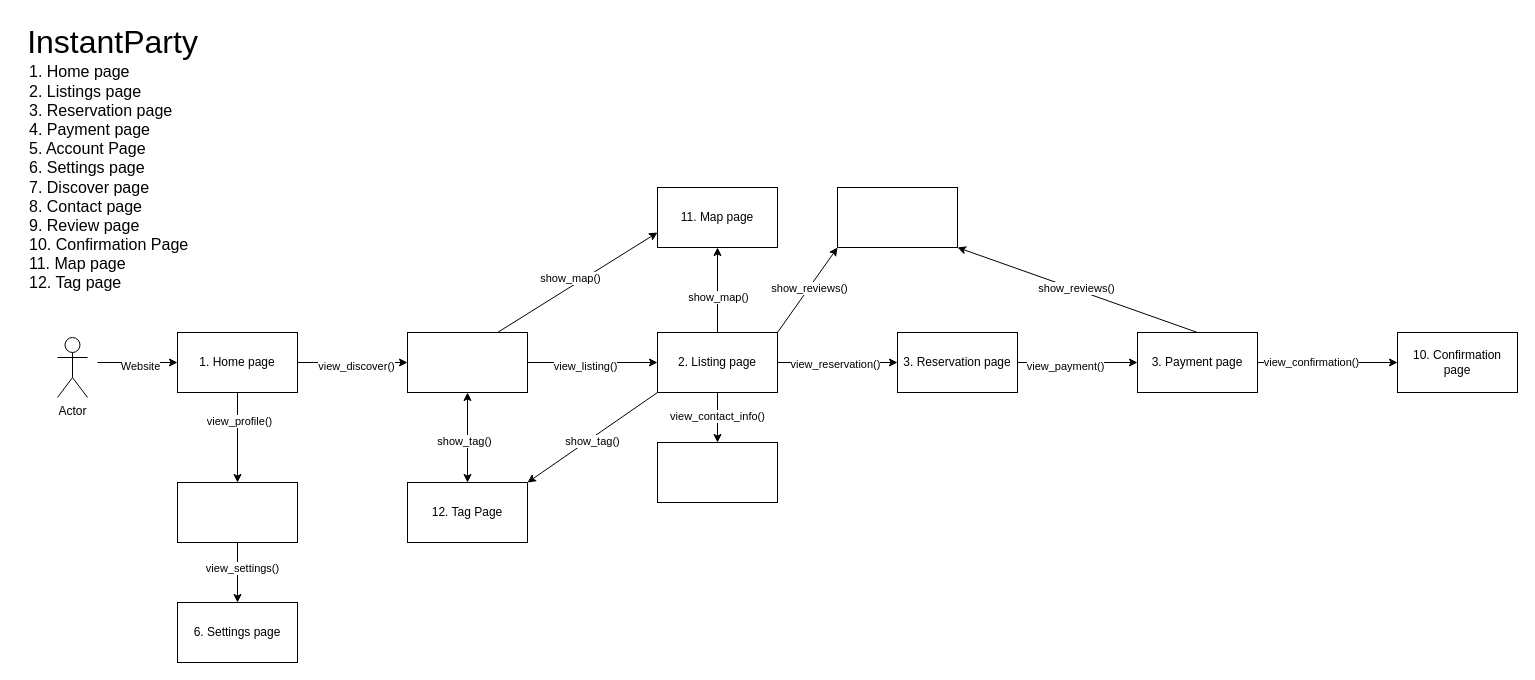
Some shapes in this 1535 by 680 pixel diagram are drawn without their labels. Here are the shapes that lost their labels. From the top down, the centre of each, then its label:
(897,217): 9. Review page
(467,362): 7. Discover page
(717,472): 8. Contact page
(237,512): 5. Account page
